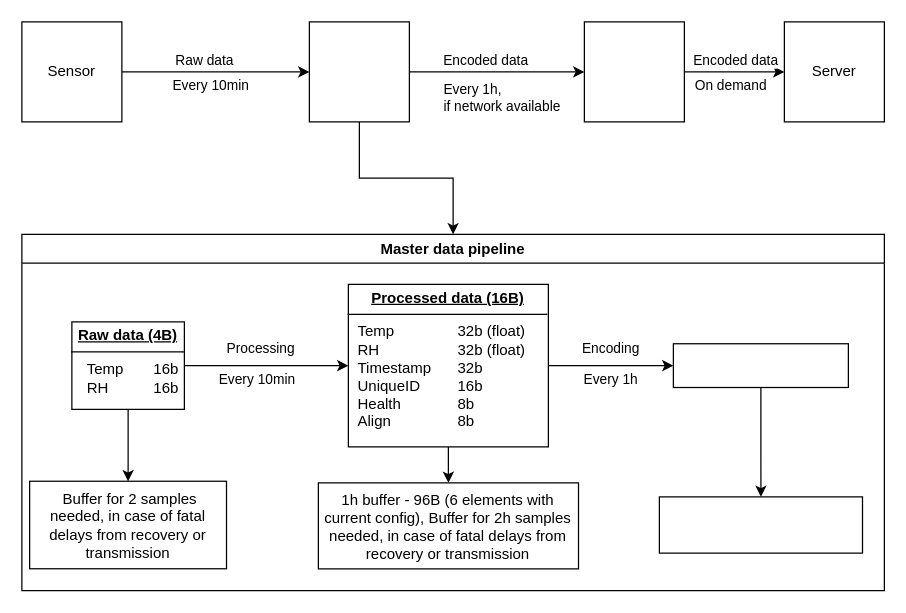
This 906x613 diagram has some shape labels left out. The shapes that lost their labels are listed below. From the top down, each one's centre as x and y in pixels, then its label:
At [358,71]: "uC Master".
At [633,71]: "uC Slave".
At [760,365]: "CBOR (120B per hour payload, aprox)".
At [760,524]: "1wk buffer - 20kB (168 elements with current config)".
